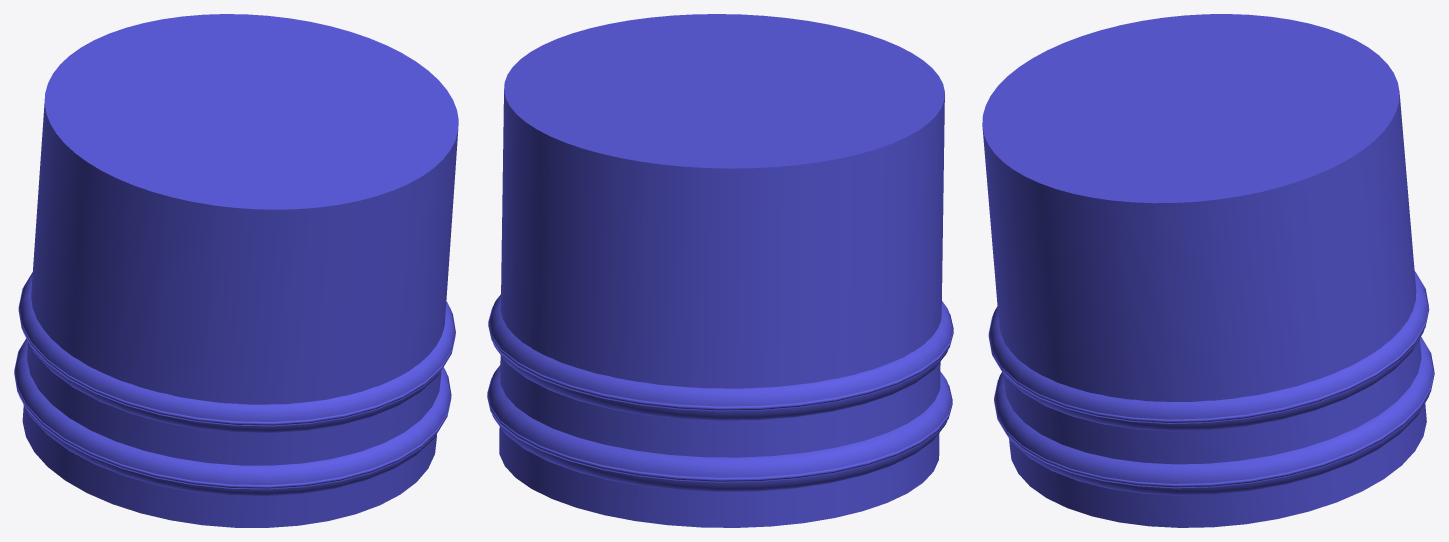
File: bombilla245.obj
3 views of the same model, side by side, from view 1: azimuth 30°, elevation 25°; view 2: azimuth 150°, elevation 25°; view 3: azimuth 270°, elevation 25° (orthographic). The views are drawn at different scales.
Parts seen in each view (by area): view 1: Cylinder001, Cylinder004, Cylinder002, Cylinder003, Cylinder006; view 2: Cylinder001, Cylinder004, Cylinder003, Cylinder006, Cylinder002; view 3: Cylinder001, Cylinder004, Cylinder003, Cylinder002, Cylinder006.
Boxes of the visible parts, x1=… form: Cylinder001: x1=31, y1=14, x2=458, y2=404; Cylinder004: x1=14, y1=338, x2=451, y2=496; Cylinder002: x1=18, y1=272, x2=455, y2=433; Cylinder003: x1=27, y1=342, x2=441, y2=465; Cylinder006: x1=22, y1=405, x2=436, y2=527; Cylinder001: x1=500, y1=14, x2=944, y2=388; Cylinder004: x1=487, y1=365, x2=952, y2=491; Cylinder003: x1=500, y1=355, x2=940, y2=457; Cylinder006: x1=499, y1=427, x2=939, y2=527; Cylinder002: x1=488, y1=294, x2=953, y2=420; Cylinder001: x1=982, y1=14, x2=1416, y2=401; Cylinder004: x1=994, y1=337, x2=1434, y2=495; Cylinder003: x1=1003, y1=339, x2=1421, y2=464; Cylinder002: x1=988, y1=271, x2=1429, y2=431; Cylinder006: x1=1009, y1=403, x2=1426, y2=527.
Size of the model in its own units: 72.53 by 64.83 by 73.97.
